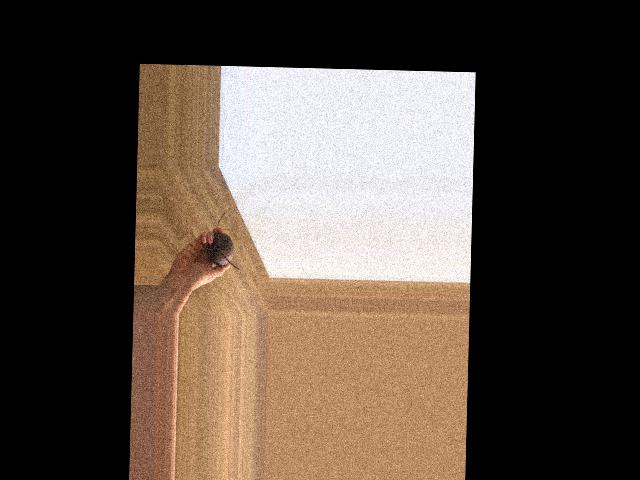beet: (207, 211, 240, 269)
